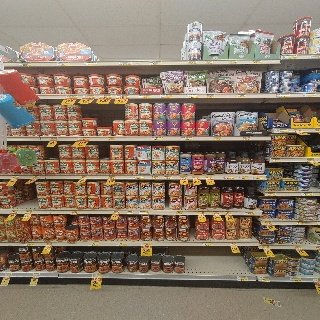All PRICE TAGS: (266, 299, 280, 306), (284, 55, 298, 59), (237, 276, 248, 281), (160, 94, 173, 98), (19, 62, 32, 66), (291, 277, 301, 282), (238, 175, 250, 179), (186, 94, 198, 98), (301, 192, 313, 196), (277, 129, 289, 133), (119, 61, 131, 65), (259, 277, 270, 281), (202, 242, 212, 246), (236, 94, 246, 98), (311, 54, 319, 59), (204, 60, 214, 64), (252, 176, 265, 179), (138, 95, 151, 98), (57, 62, 70, 65), (84, 62, 97, 65), (92, 274, 101, 278), (244, 211, 253, 215), (223, 176, 235, 179), (242, 136, 251, 140), (213, 136, 222, 140), (78, 137, 90, 140), (206, 94, 215, 98), (117, 95, 129, 98), (100, 95, 112, 98), (84, 95, 96, 98), (66, 95, 78, 98), (303, 94, 315, 97), (278, 94, 290, 97), (150, 61, 162, 64), (188, 60, 197, 64), (228, 60, 237, 64), (182, 137, 193, 140), (151, 137, 162, 140), (224, 211, 232, 215), (141, 211, 149, 215), (264, 221, 272, 225), (297, 221, 305, 225), (268, 192, 276, 196), (273, 158, 281, 162), (307, 158, 315, 162), (294, 128, 302, 132), (142, 243, 152, 246), (116, 243, 126, 246), (89, 243, 99, 246), (134, 176, 144, 179), (5, 272, 11, 277), (33, 272, 39, 277), (212, 211, 219, 215), (176, 211, 183, 215), (12, 175, 19, 179), (32, 175, 39, 179), (262, 245, 269, 249), (107, 137, 116, 140), (252, 60, 261, 63), (25, 243, 34, 246), (198, 211, 204, 215), (205, 176, 213, 179), (192, 176, 200, 179), (164, 176, 172, 179), (50, 137, 58, 140), (314, 278, 320, 282), (294, 246, 302, 249), (230, 242, 237, 245), (126, 211, 133, 214), (113, 211, 120, 214), (71, 211, 78, 214), (180, 176, 187, 179), (152, 176, 159, 179), (108, 176, 115, 179), (80, 176, 87, 179), (315, 128, 320, 132), (12, 210, 18, 213), (26, 210, 32, 213), (46, 243, 52, 246), (315, 246, 319, 249)
